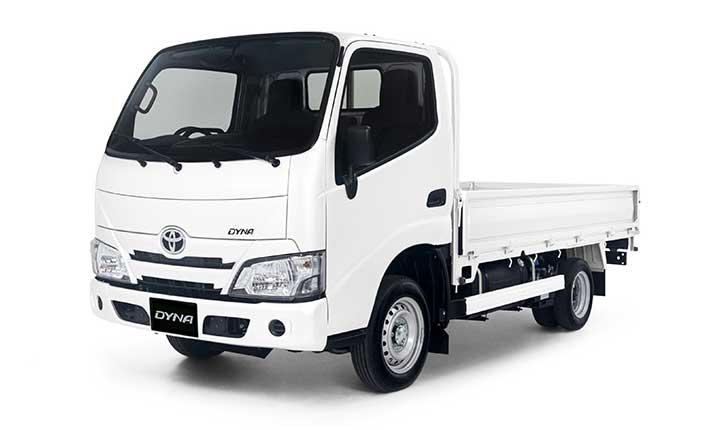truck: (88, 30, 641, 393)
